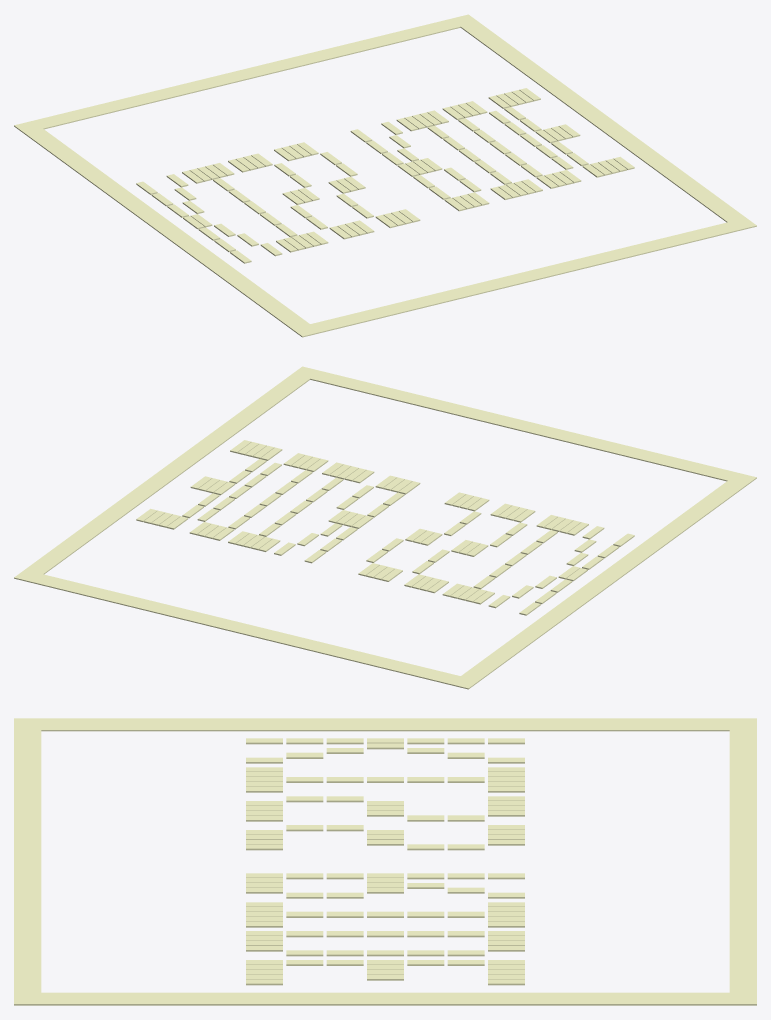
File: marking_kiss_ride_box_white.glb
3 views of the same model, one above another, from view 1: azimuth 30°, elevation 25°; view 2: azimuth 150°, elevation 25°; view 3: azimuth 270°, elevation 25° (orthographic). The views are drawn at different scales.
Parts seen in each view (by area): view 1: kiss_ride_box_bottom, kiss_ride_box_top, kiss_ride_box_left, kiss_ride_box_right; view 2: kiss_ride_box_top, kiss_ride_box_bottom, kiss_ride_box_left, kiss_ride_box_right; view 3: kiss_ride_box_left, kiss_ride_box_right, kiss_ride_box_top, kiss_ride_box_bottom.
Boxes of the visible parts, x1,y1,x2,y2 form: kiss_ride_box_bottom: (291, 218, 756, 337); kiss_ride_box_top: (14, 14, 478, 133); kiss_ride_box_left: (24, 128, 309, 329); kiss_ride_box_right: (460, 22, 745, 222); kiss_ride_box_top: (14, 570, 479, 689); kiss_ride_box_bottom: (292, 366, 756, 485); kiss_ride_box_left: (461, 480, 746, 681); kiss_ride_box_right: (25, 374, 310, 574); kiss_ride_box_left: (41, 718, 729, 731); kiss_ride_box_right: (41, 992, 729, 1005); kiss_ride_box_top: (729, 718, 756, 1005); kiss_ride_box_bottom: (14, 718, 41, 1005).
Bounding box in the file's own units: 2.22 × 0.006 × 2.44.
